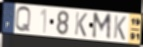1: (40, 8, 48, 34)
8: (56, 10, 70, 36)
K: (112, 15, 127, 42), (73, 11, 88, 38)
M: (91, 12, 113, 41)
Q: (14, 6, 32, 34)
